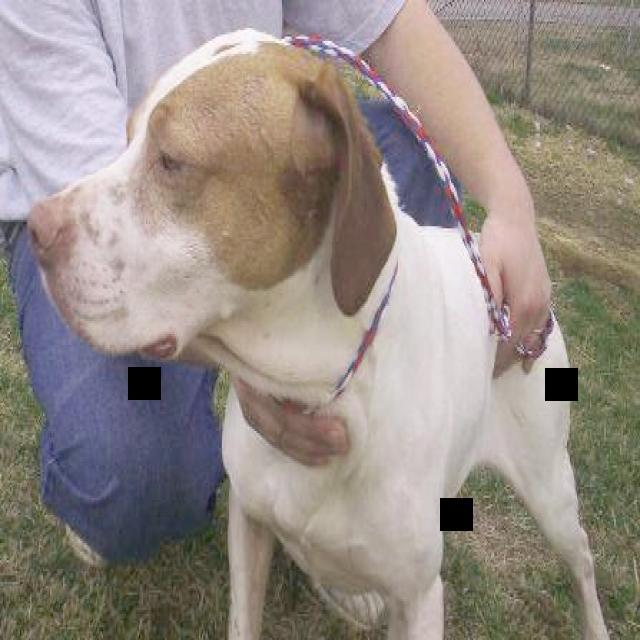adult_dog: (27, 30, 610, 640)
